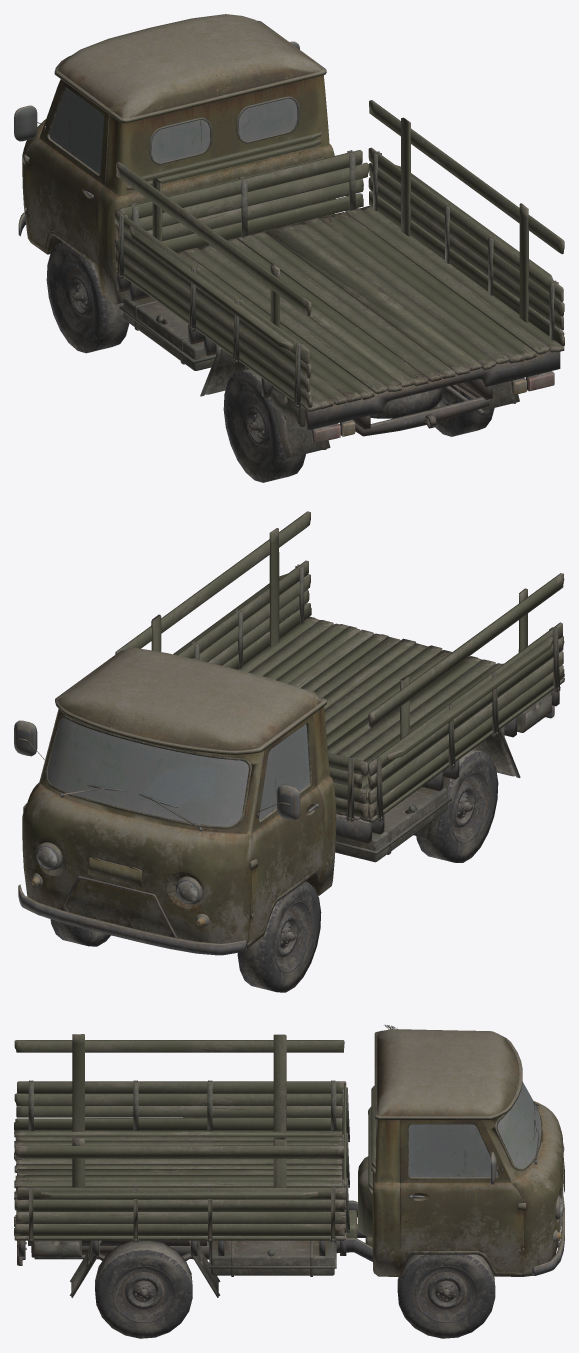
Rendered from Buhanka.fbx.
The picture shows the model from 3 angles, top to bottom: view 1: azimuth 30°, elevation 25°; view 2: azimuth 150°, elevation 25°; view 3: azimuth 270°, elevation 25°; orthographic projection. The views are drawn at different scales.
Parts seen in each view (by area): view 1: Uaz452; view 2: Uaz452; view 3: Uaz452.
Part boxes in pixels (<box>): Uaz452: <box>14,14,564,482</box>; Uaz452: <box>14,511,564,992</box>; Uaz452: <box>14,1025,564,1338</box>.
Bounding box in the file's own units: 24206 × 22565 × 47462.
